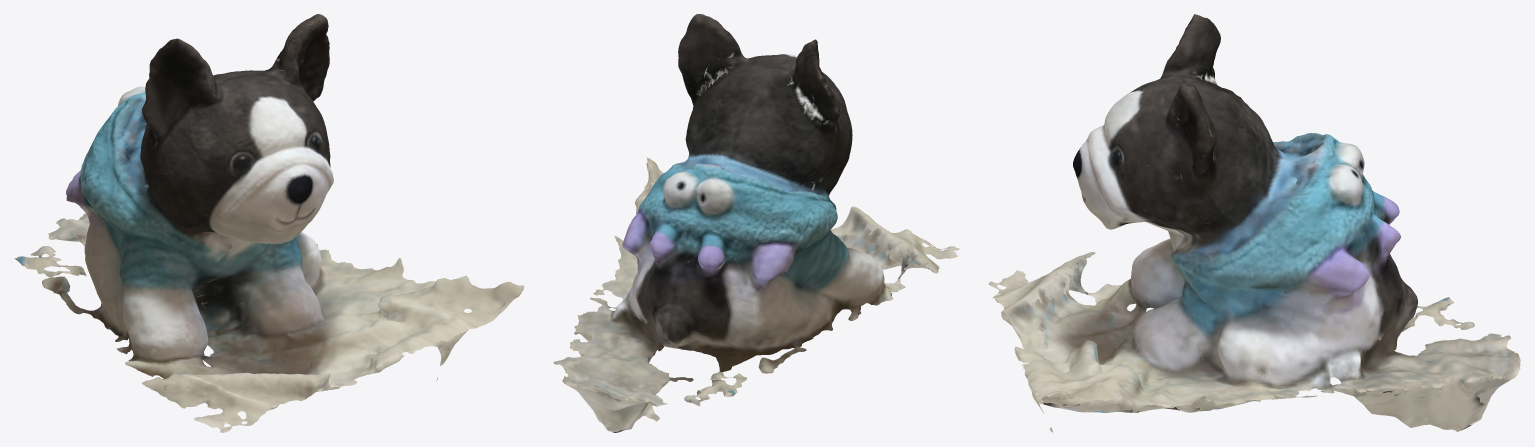
3 renders of one model, left to right at view 1: azimuth 30°, elevation 25°; view 2: azimuth 150°, elevation 25°; view 3: azimuth 270°, elevation 25°, orthographic. The views are drawn at different scales.
Parts seen in each view (by area): view 1: Object_2; view 2: Object_2; view 3: Object_2.
Part boxes in pixels (x1,y1,x2,y2): Object_2: (14, 14, 524, 432); Object_2: (553, 14, 959, 432); Object_2: (988, 14, 1520, 432).
Size of the model in its own units: 0.3406 by 0.3419 by 0.4453.
1 material, 1 textured.
